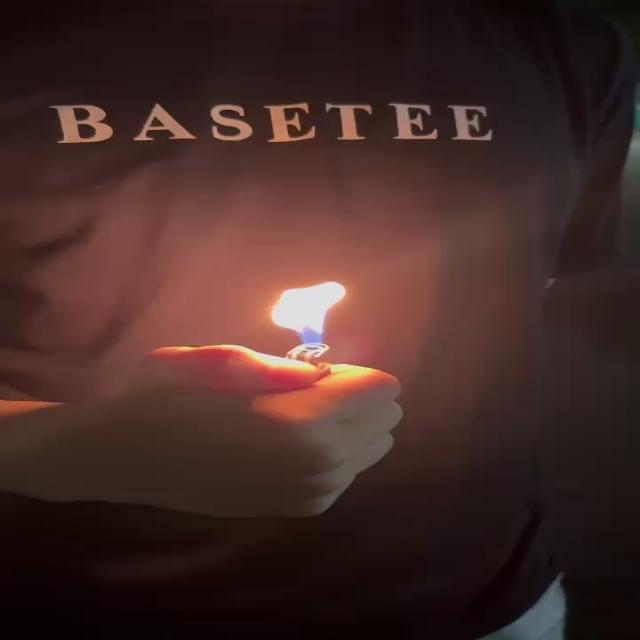Fire: (267, 281, 351, 352)
